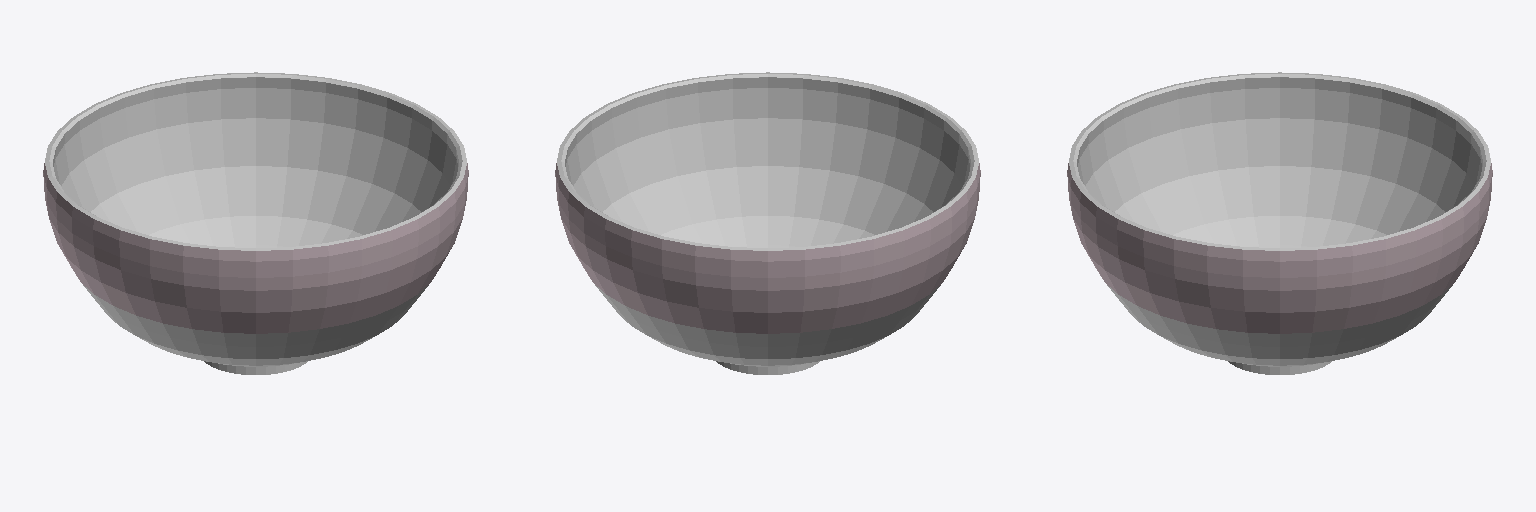
File: saucer.obj
3 renders of one model, left to right at view 1: azimuth 30°, elevation 25°; view 2: azimuth 150°, elevation 25°; view 3: azimuth 270°, elevation 25°, orthographic.
Parts seen in each view (by area): view 1: saucer1; view 2: saucer1; view 3: saucer1.
Part boxes in pixels (x1,y1,x2,y2): saucer1: (43,72,468,374); saucer1: (555,72,980,374); saucer1: (1067,72,1492,374).
Bounding box in the file's own units: 118 × 58.01 × 118.